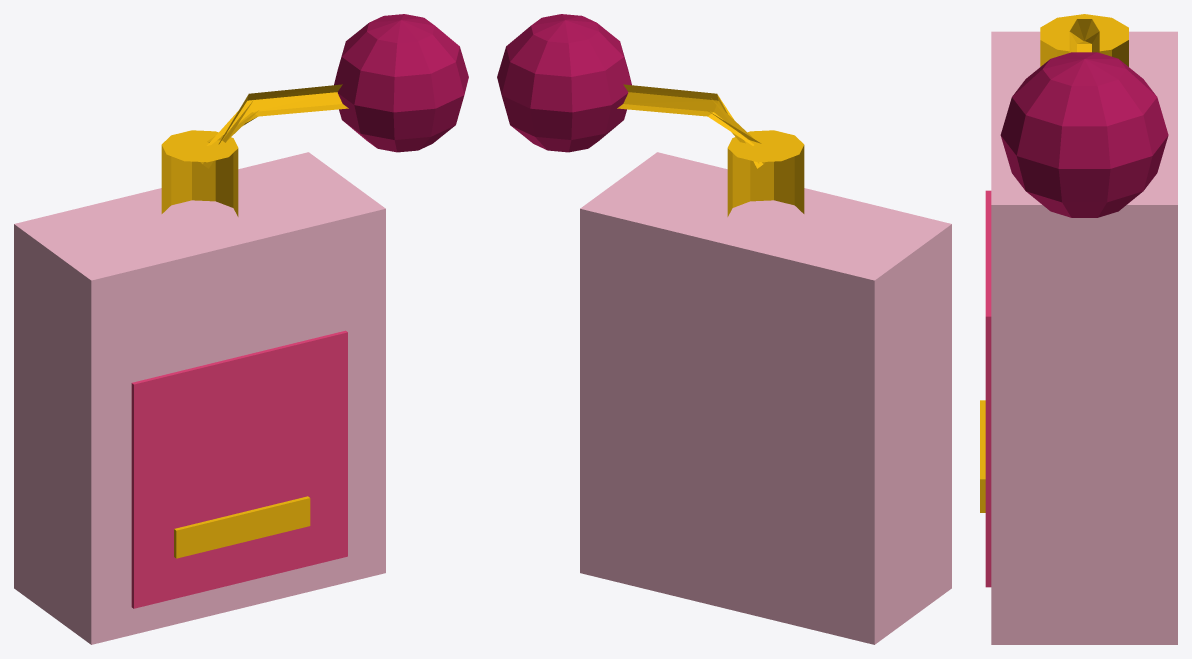
Rendered from parfym.glb.
The picture shows the model from 3 angles, left to right: view 1: azimuth 30°, elevation 25°; view 2: azimuth 150°, elevation 25°; view 3: azimuth 270°, elevation 25°; orthographic projection. The views are drawn at different scales.
Visible parts, largest first — view 1: parfym; view 2: parfym; view 3: parfym.
Boxes of the visible parts, box(x1,y1,x2,y2) form: parfym: box(14, 14, 468, 644); parfym: box(497, 14, 951, 644); parfym: box(980, 14, 1177, 644).
Bounding box in the file's own units: 0.3028 × 0.365 × 0.106.
